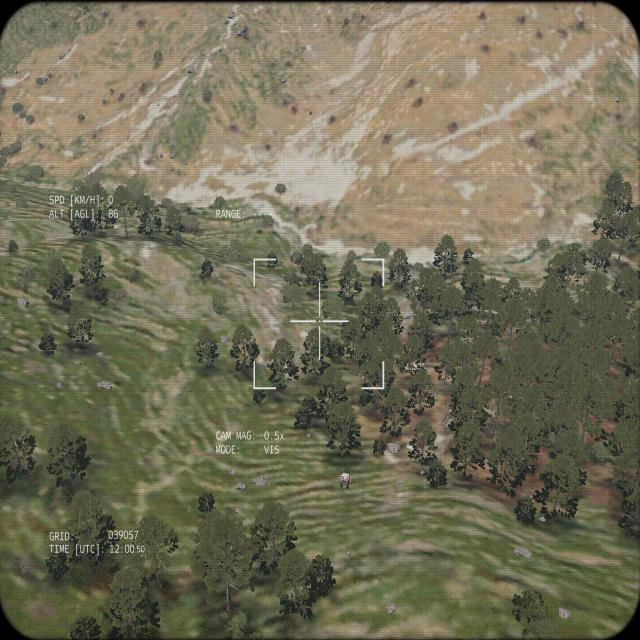tank: (401, 358, 429, 376)
truck: (442, 406, 458, 430)
